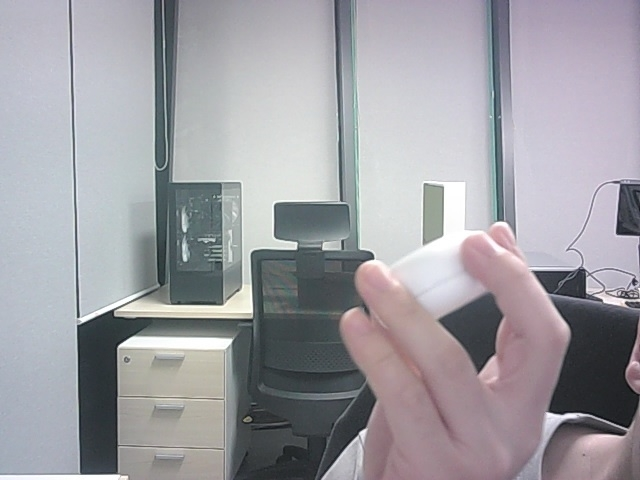case: (390, 231, 487, 319)
